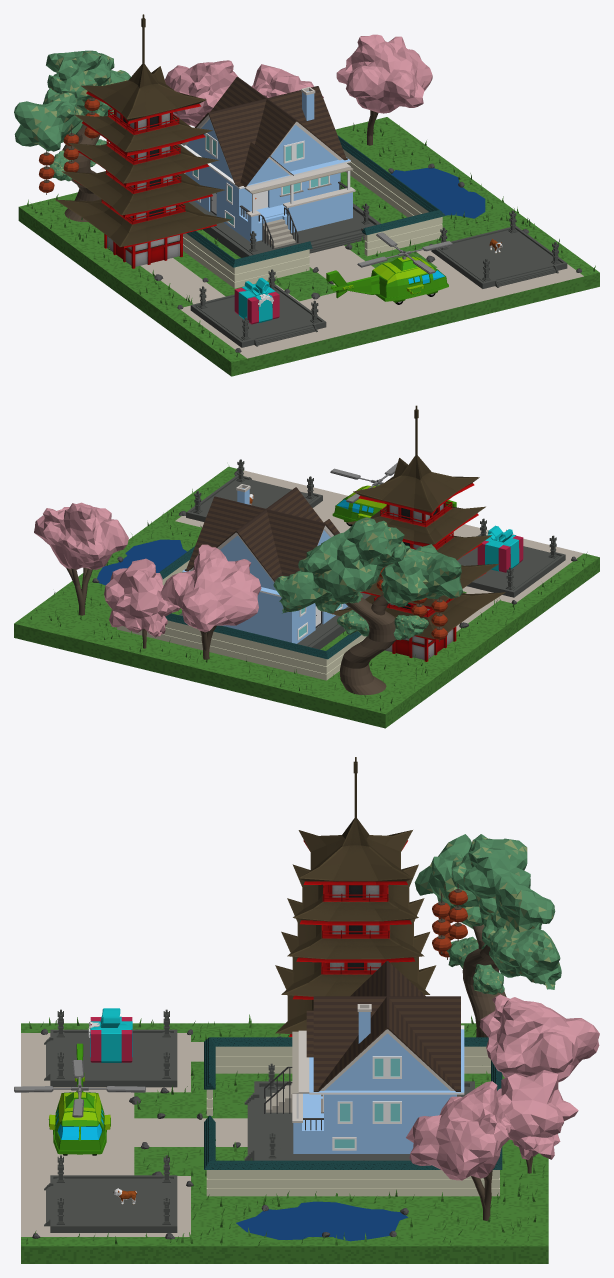
3 views of the same model, one above another, from view 1: azimuth 30°, elevation 25°; view 2: azimuth 150°, elevation 25°; view 3: azimuth 270°, elevation 25° (orthographic). The views are drawn at different scales.
Parts seen in each view (by area): view 1: Cube.005, Cube.1594, VEHICLES_HELICOPTER, OBJRANDOM_GIANT_PRESENT; view 2: Cube.005, Cube.1594, OBJRANDOM_GIANT_PRESENT, VEHICLES_HELICOPTER; view 3: Cube.005, Cube.1594, VEHICLES_HELICOPTER, OBJRANDOM_GIANT_PRESENT.
Part boxes in pixels (x1,y1,x2,y2): Cube.005: [14, 14, 599, 376]; Cube.1594: [179, 76, 355, 248]; VEHICLES_HELICOPTER: [326, 232, 452, 304]; OBJRANDOM_GIANT_PRESENT: [234, 278, 279, 324]; Cube.005: [14, 405, 599, 728]; Cube.1594: [182, 484, 347, 643]; OBJRANDOM_GIANT_PRESENT: [477, 525, 523, 572]; VEHICLES_HELICOPTER: [330, 463, 456, 526]; Cube.005: [21, 757, 599, 1263]; Cube.1594: [264, 961, 464, 1153]; VEHICLES_HELICOPTER: [14, 1043, 145, 1155]; OBJRANDOM_GIANT_PRESENT: [88, 1008, 132, 1062].
Size of the model in its own units: 4528 by 2690 by 4442.
48 materials, 5 textured.
